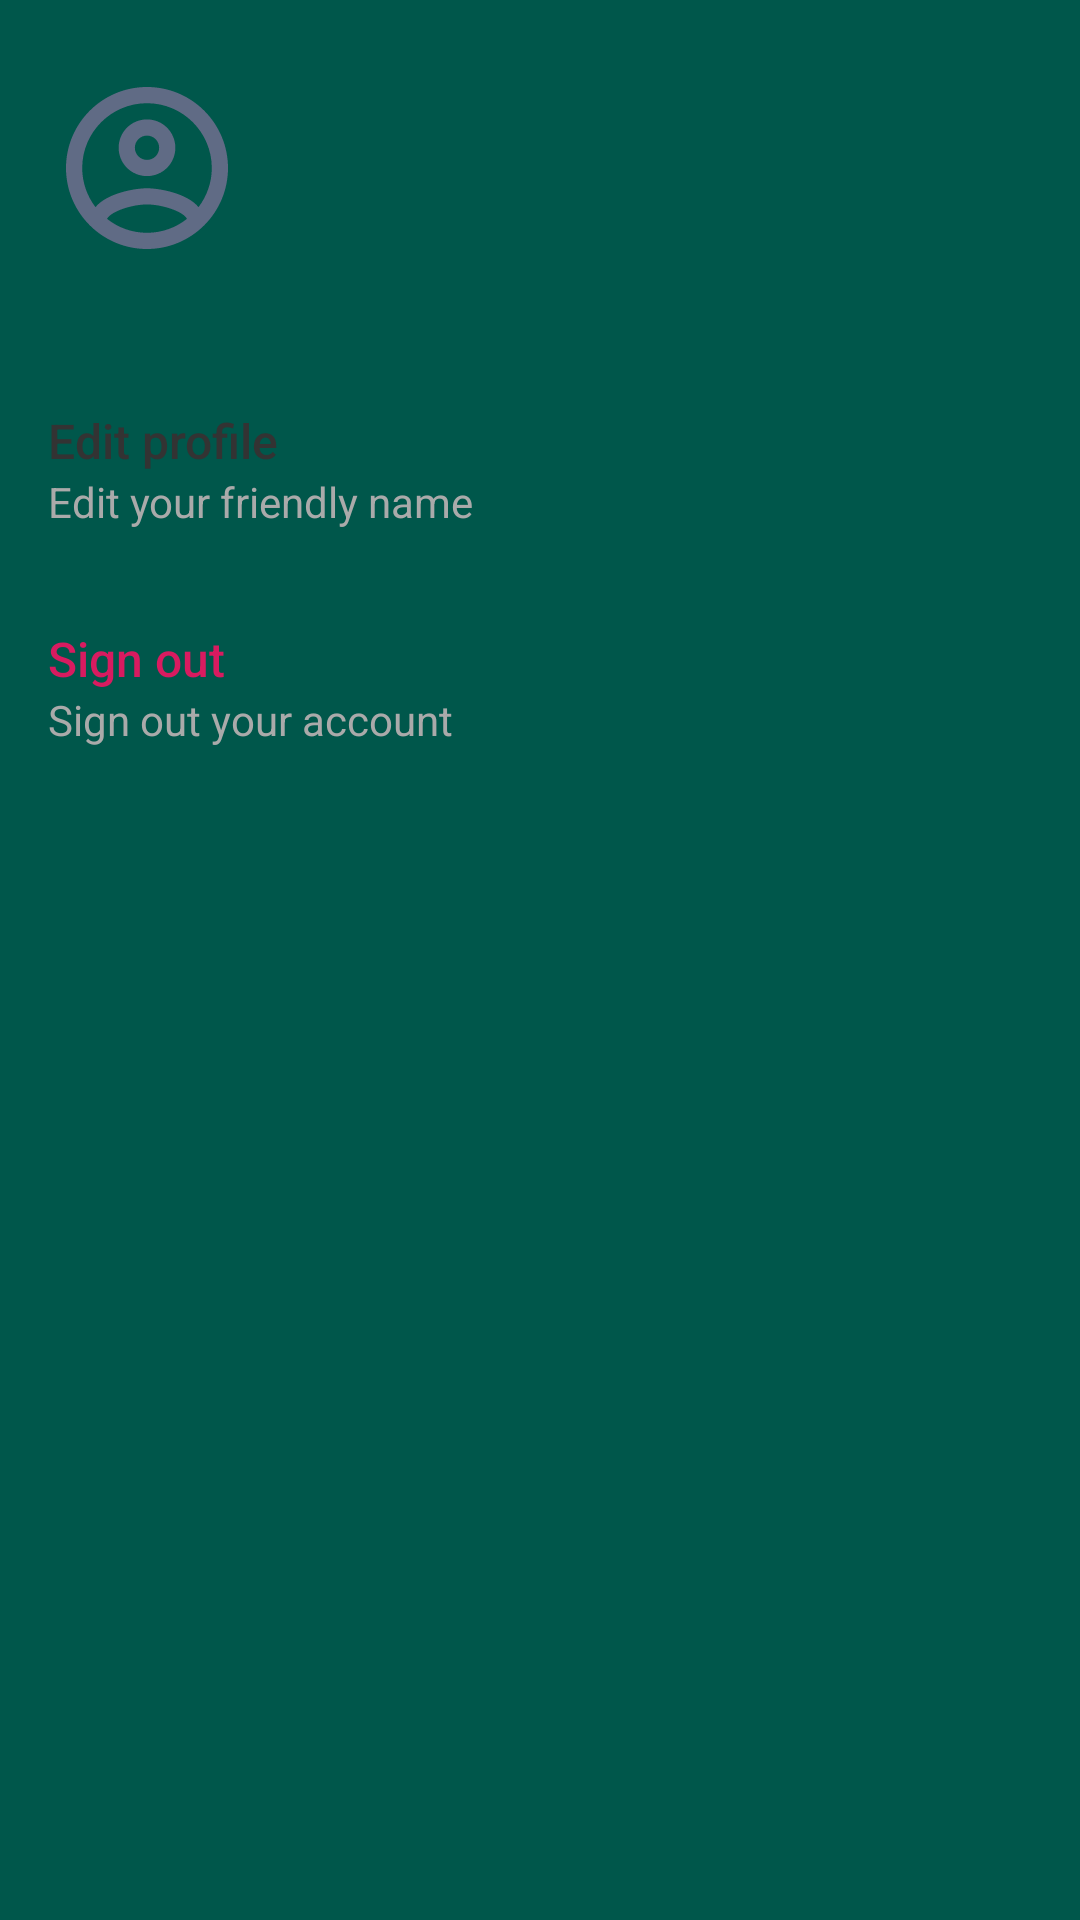

Where icons sit on this 1080×1920 app screen, as {"left": x1, "top": y1, "right": x2, "bottom": y2}:
profile: {"left": 66, "top": 87, "right": 228, "bottom": 249}
